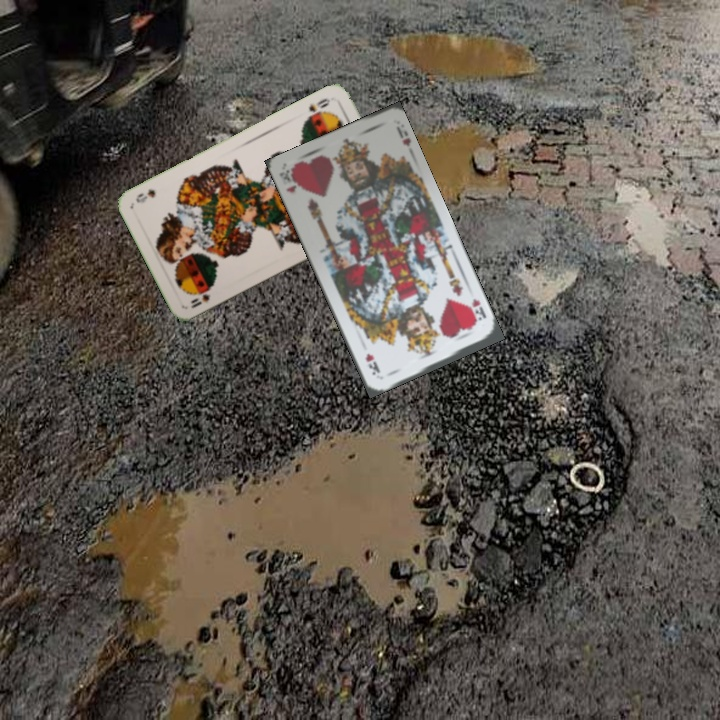HK: (276, 166, 301, 196), (468, 295, 489, 323)
SO: (303, 94, 333, 121), (186, 285, 214, 311)
